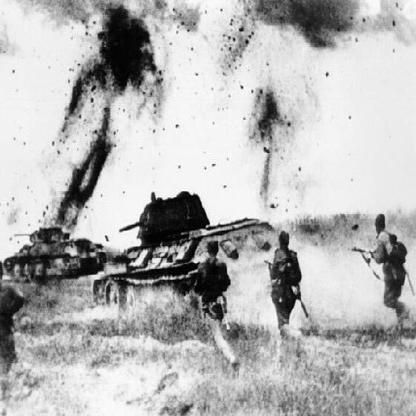Tank: (97, 192, 283, 324), (3, 225, 112, 286)
